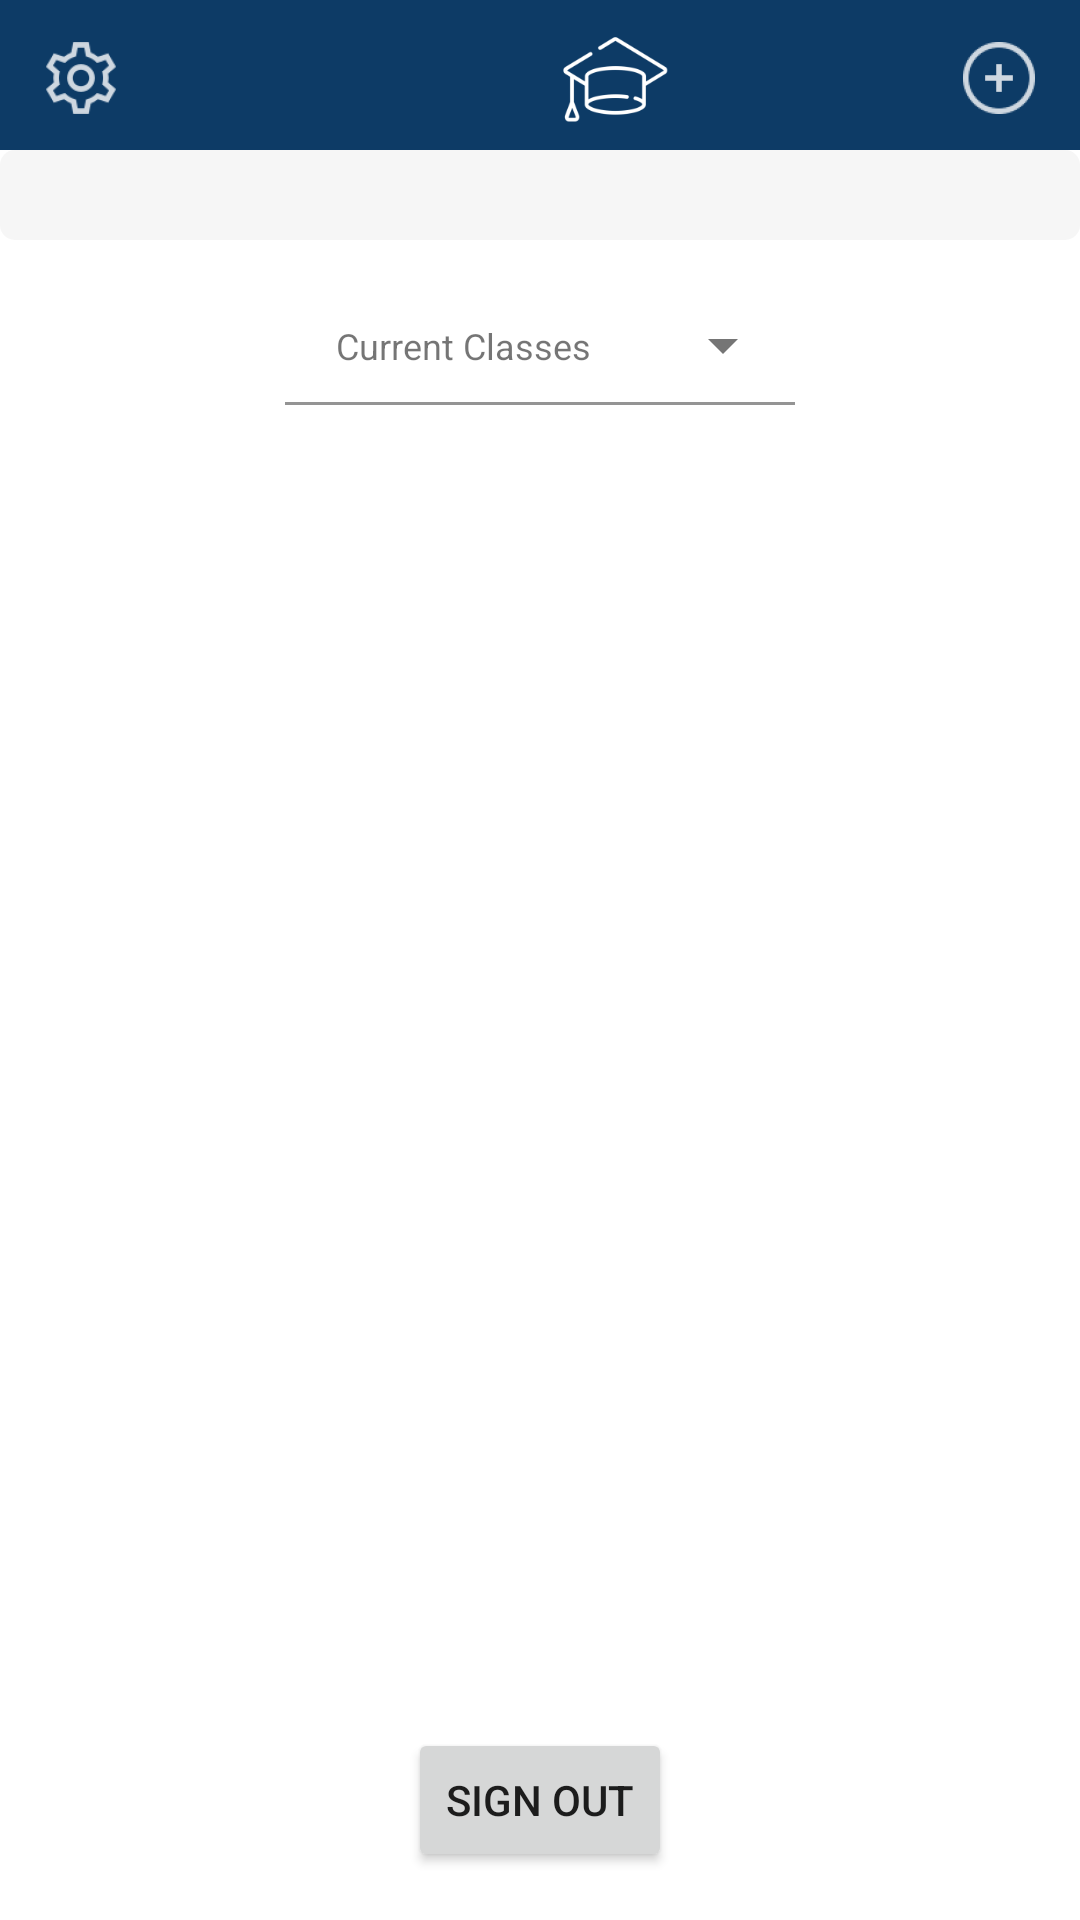

Icons on this 1080*1920 Android screen, each with its box as (x1, y1, x2, y2):
add class: (963, 42, 1035, 114)
settings: (46, 42, 116, 114)
